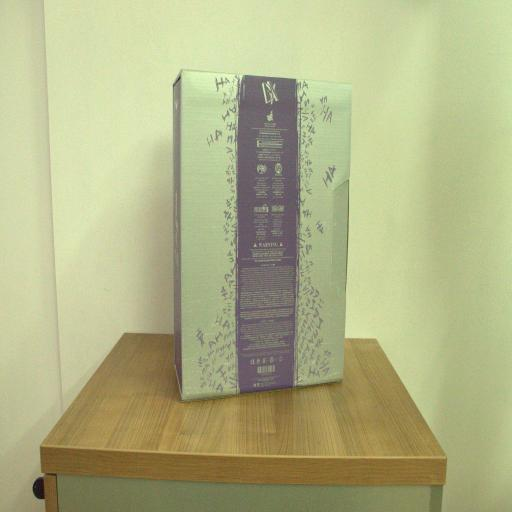Joker: (171, 70, 353, 403)
